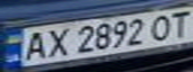2: (124, 16, 151, 46), (72, 21, 96, 54)
8: (93, 20, 115, 52)
9: (109, 18, 133, 50)
A: (18, 29, 51, 62)
O: (145, 11, 175, 42)
T: (163, 8, 193, 38)
X: (42, 25, 72, 60)
